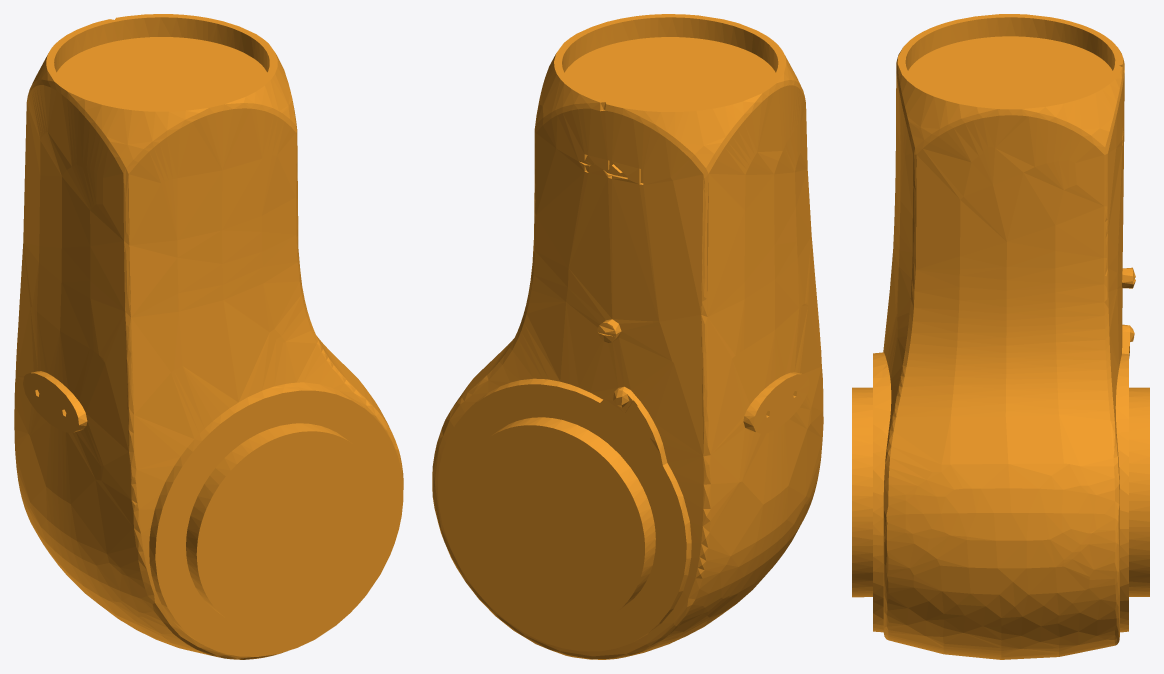
File: KukaKR10Link3.dae
3 views of the same model, side by side, from view 1: azimuth 30°, elevation 25°; view 2: azimuth 150°, elevation 25°; view 3: azimuth 270°, elevation 25° (orthographic). The views are drawn at different scales.
Visible parts, largest first — view 1: KR10Link3; view 2: KR10Link3; view 3: KR10Link3.
Part boxes in pixels (x1,y1,x2,y2): KR10Link3: (14, 14, 403, 659); KR10Link3: (432, 14, 823, 659); KR10Link3: (852, 14, 1149, 659).
Size of the model in its own units: 0.1643 by 0.142 by 0.295.
